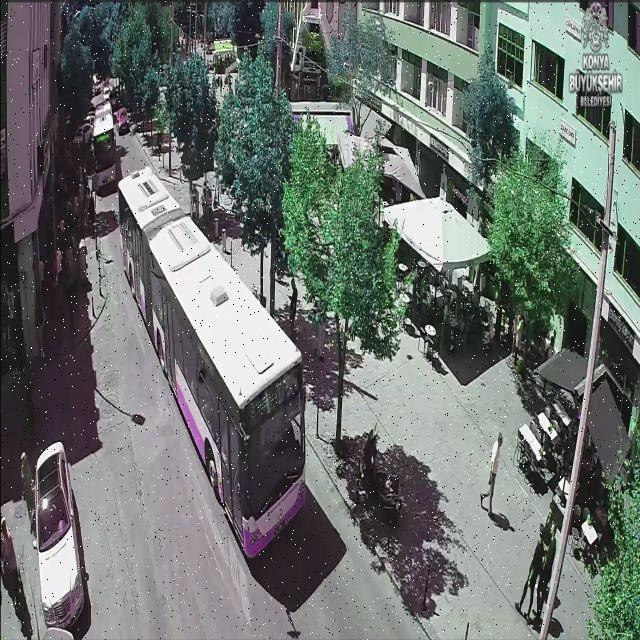Bus: (116, 165, 310, 560), (92, 102, 118, 187)
Car: (32, 441, 86, 627), (72, 123, 92, 146), (116, 107, 130, 131), (80, 115, 94, 125), (103, 87, 111, 101), (94, 80, 102, 93)
